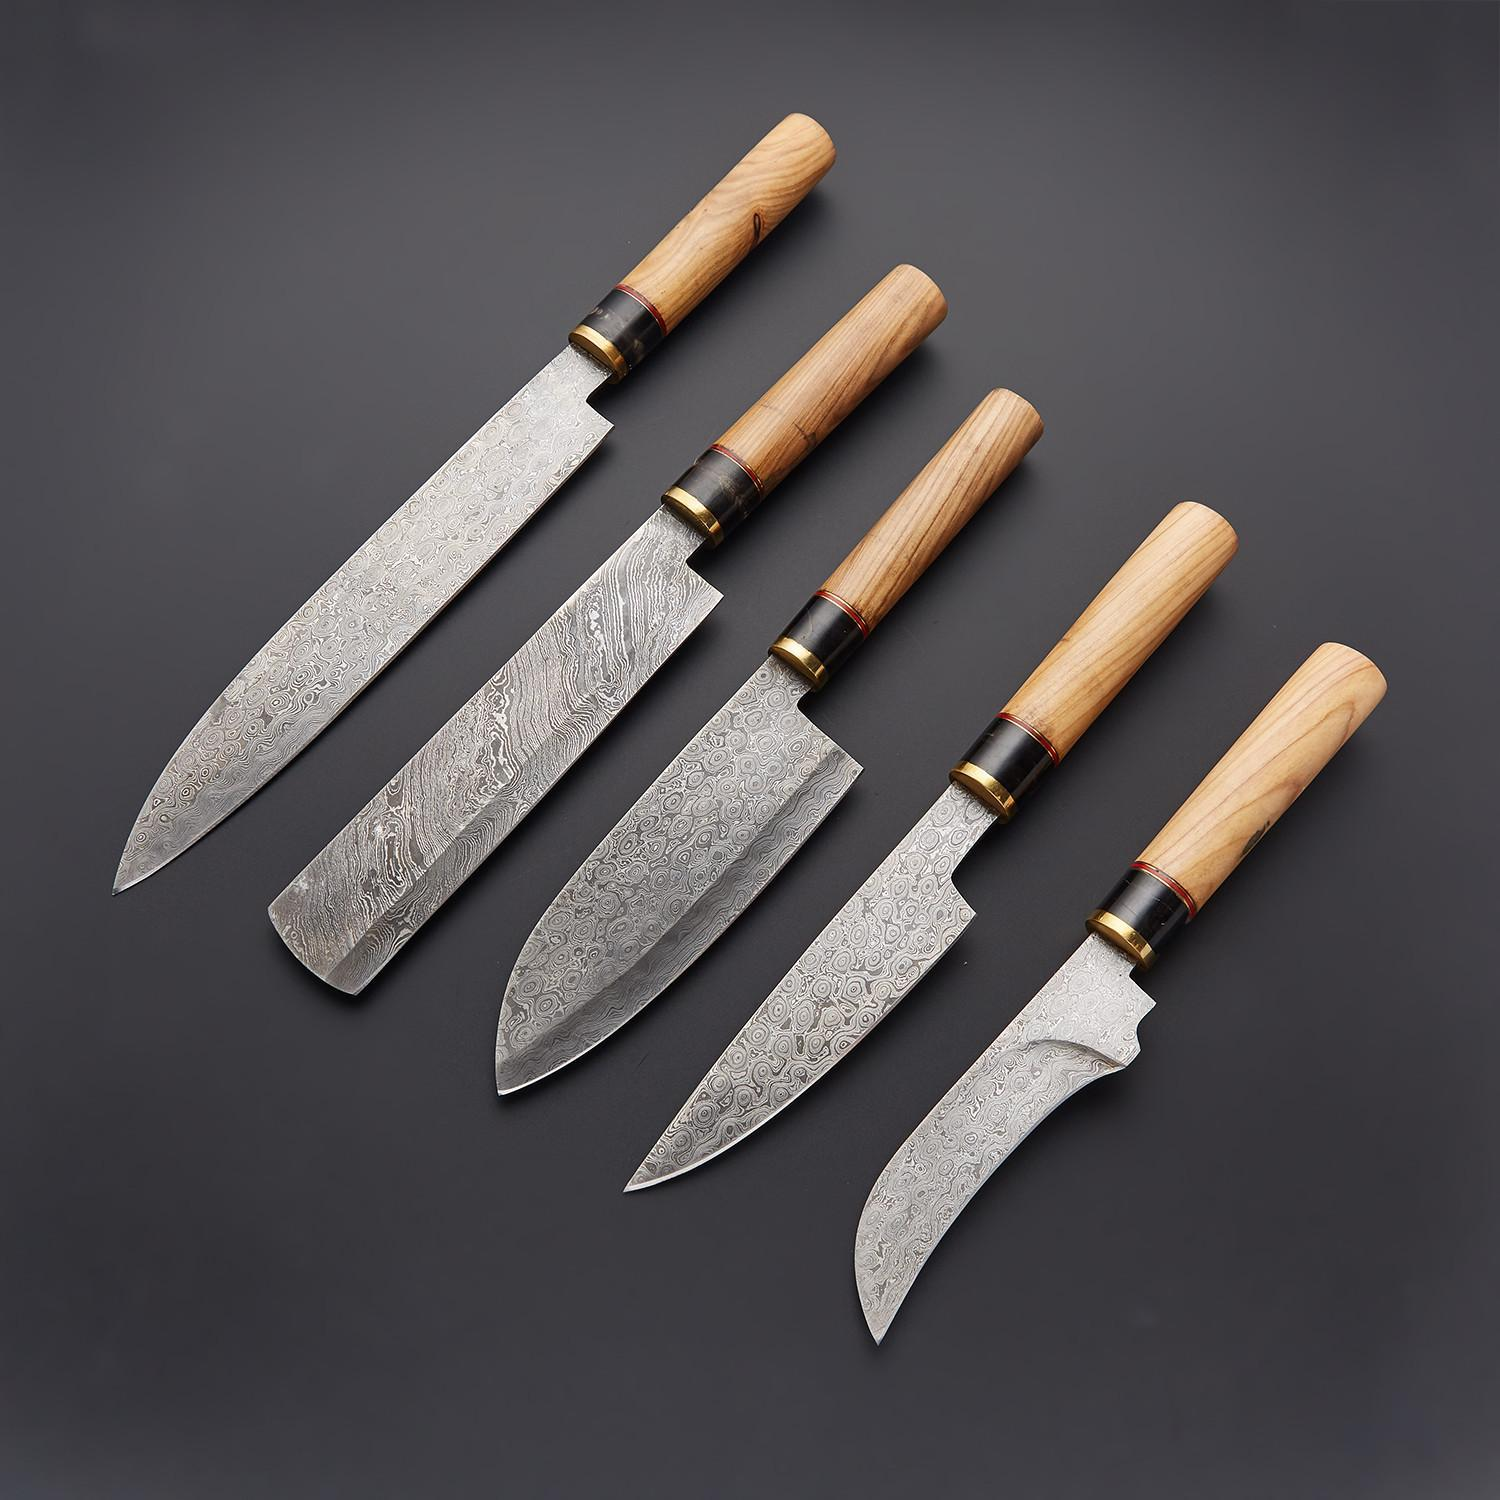facao: (115, 114, 834, 890), (271, 266, 946, 995), (629, 503, 1236, 1191), (496, 389, 1041, 1093), (854, 646, 1386, 1341)
